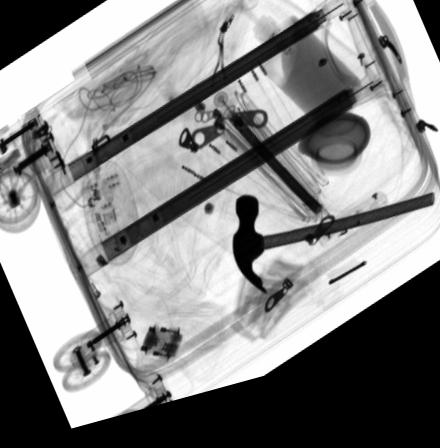Hammer: (231, 206, 434, 309)
